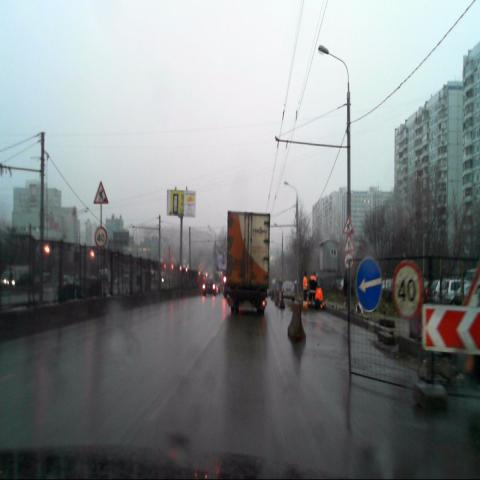4_1_2_2: (356, 256, 383, 312)
